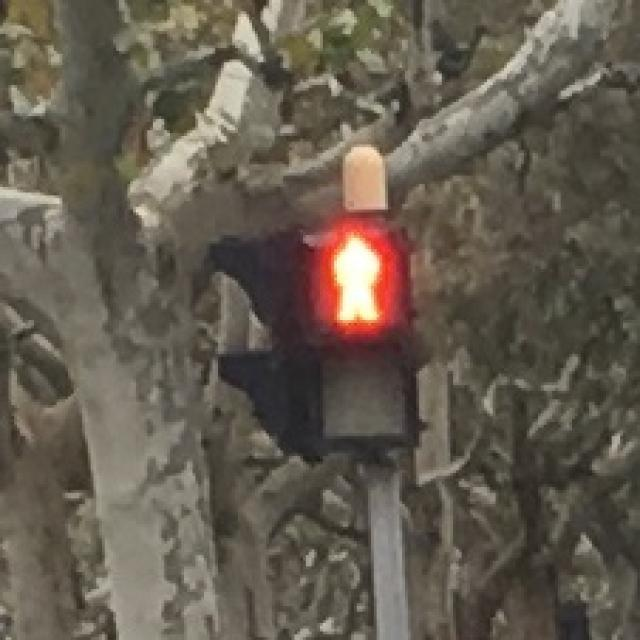red-light: (310, 225, 404, 333)
